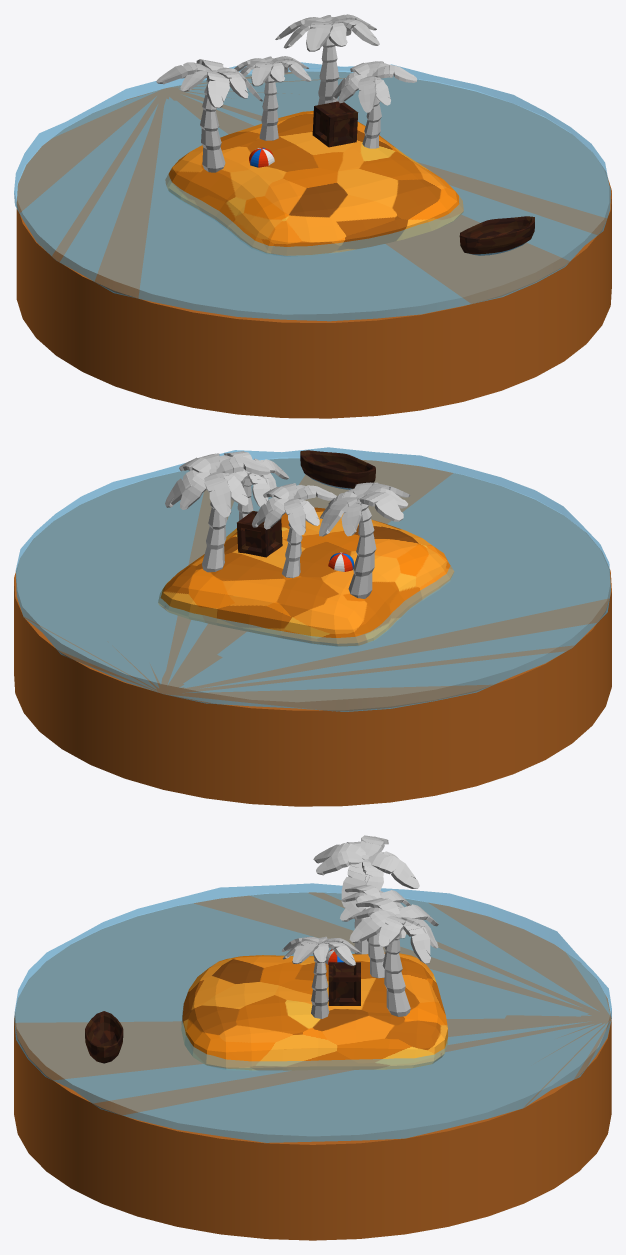
File: beach.fbx
3 views of the same model, one above another, from view 1: azimuth 30°, elevation 25°; view 2: azimuth 150°, elevation 25°; view 3: azimuth 270°, elevation 25° (orthographic).
Parts seen in each view (by area): view 1: Land, Water, Sand, PalmTree.004, PalmTree.003, PalmTree.002, PalmTree.001, Boat, Cube; view 2: Land, Water, Sand, PalmTree.003, PalmTree.004, PalmTree.001, Boat, PalmTree.002, Cube; view 3: Land, Water, Sand, PalmTree.003, PalmTree.004, PalmTree.002, PalmTree.001, Boat, Cube.
Boxes of the visible parts, x1=… form: Land: x1=16, y1=71, x2=611, y2=418; Water: x1=14, y1=62, x2=610, y2=321; Sand: x1=165, y1=111, x2=463, y2=256; PalmTree.004: x1=156, y1=59, x2=262, y2=172; PalmTree.003: x1=275, y1=14, x2=379, y2=104; PalmTree.002: x1=331, y1=61, x2=416, y2=148; PalmTree.001: x1=234, y1=56, x2=311, y2=140; Boat: x1=459, y1=216, x2=534, y2=255; Cube: x1=312, y1=101, x2=358, y2=147; Land: x1=14, y1=458, x2=611, y2=806; Water: x1=15, y1=447, x2=610, y2=711; Sand: x1=158, y1=507, x2=454, y2=646; PalmTree.003: x1=165, y1=453, x2=270, y2=572; PalmTree.004: x1=319, y1=482, x2=410, y2=598; PalmTree.001: x1=252, y1=483, x2=336, y2=578; Boat: x1=300, y1=450, x2=375, y2=489; PalmTree.002: x1=224, y1=451, x2=289, y2=520; Cube: x1=237, y1=511, x2=282, y2=557; Land: x1=14, y1=892, x2=611, y2=1240; Water: x1=14, y1=883, x2=611, y2=1142; Sand: x1=181, y1=952, x2=447, y2=1070; PalmTree.003: x1=349, y1=898, x2=438, y2=1016; PalmTree.004: x1=313, y1=835, x2=419, y2=954; PalmTree.002: x1=281, y1=936, x2=360, y2=1018; PalmTree.001: x1=340, y1=884, x2=411, y2=978; Boat: x1=85, y1=1011, x2=123, y2=1063; Cube: x1=328, y1=962, x2=360, y2=1005.
Size of the model in its own units: 307 by 133 by 307.
